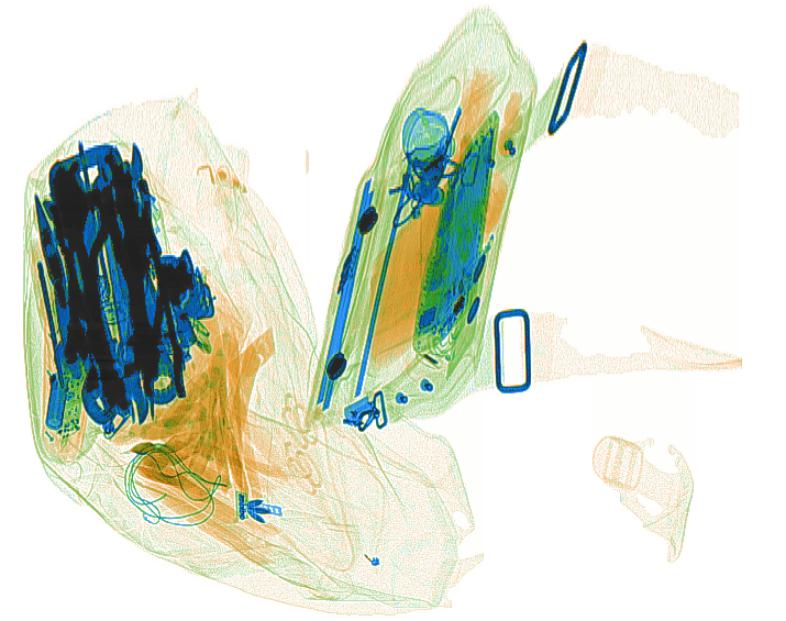battery: (45, 369, 74, 431)
